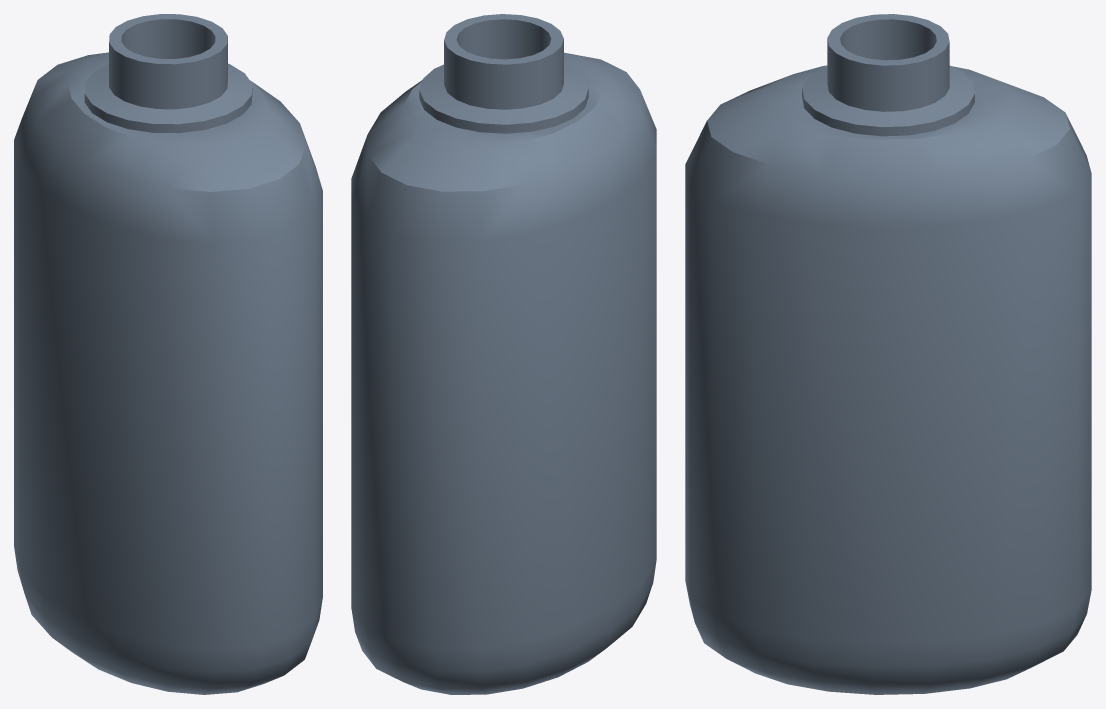
Rendered from original-1.obj.
3 renders of one model, left to right at view 1: azimuth 30°, elevation 25°; view 2: azimuth 150°, elevation 25°; view 3: azimuth 270°, elevation 25°, orthographic. The views are drawn at different scales.
Visible parts, largest first — view 1: #ID5; view 2: #ID5; view 3: #ID5.
Boxes of the visible parts, x1,y1,x2,y2 form: #ID5: (14, 14, 322, 694); #ID5: (351, 14, 656, 694); #ID5: (685, 14, 1091, 694).
Size of the model in its own units: 0.5136 by 1.25 by 0.7497.
